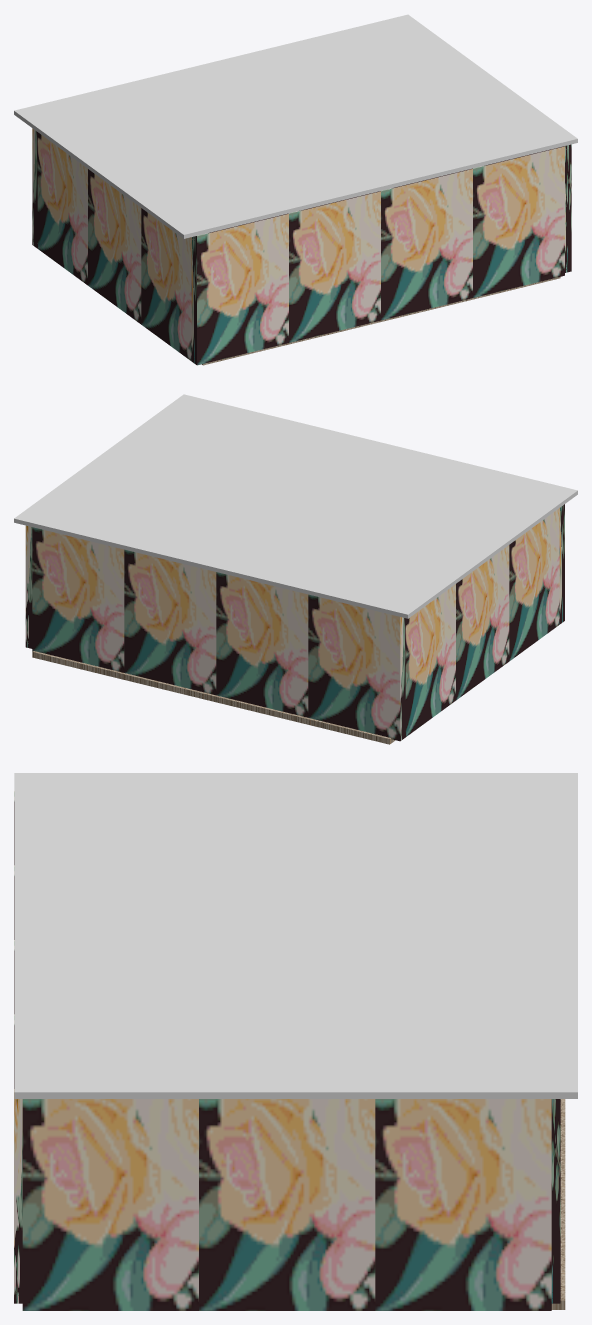
File: ps1livingroom.glb
The picture shows the model from 3 angles, top to bottom: view 1: azimuth 30°, elevation 25°; view 2: azimuth 150°, elevation 25°; view 3: azimuth 270°, elevation 25°; orthographic projection. The views are drawn at different scales.
Parts seen in each view (by area): view 1: Ceiling, Cube.011, Cube.013, Cube.012, Cube.014, Cube.009, Cube.002, Cube.001, Cube.005, Floor, Cube.006; view 2: Ceiling, Cube.006, Cube.007, Cube.010, Cube.008, Cube.009, Cube.001, Cube.002, Floor, Cube.004, Cube.011; view 3: Ceiling, Cube.003, Cube.004, Cube.005, Cube.010, Cube.014, Floor.
Part boxes in pixels (x1,y1,x2,y2): Ceiling: (14, 14, 577, 238); Cube.011: (191, 213, 288, 365); Cube.013: (381, 168, 472, 320); Cube.012: (289, 191, 380, 342); Cube.014: (473, 146, 564, 297); Cube.009: (88, 169, 141, 324); Cube.002: (141, 208, 191, 360); Cube.001: (37, 132, 87, 285); Cube.005: (565, 144, 571, 272); Floor: (202, 277, 560, 365); Cube.006: (32, 128, 38, 248); Ceiling: (14, 394, 577, 618); Cube.006: (308, 594, 406, 741); Cube.007: (216, 572, 308, 717); Cube.010: (32, 527, 124, 672); Cube.008: (124, 549, 216, 695); Cube.009: (456, 545, 509, 700); Cube.001: (405, 584, 455, 736); Cube.002: (509, 508, 559, 661); Floor: (32, 651, 395, 744); Cube.004: (25, 525, 32, 648); Cube.011: (559, 504, 564, 624); Ceiling: (14, 773, 577, 1098); Cube.003: (199, 1099, 375, 1310); Cube.004: (375, 1099, 551, 1310); Cube.005: (22, 1099, 198, 1310); Cube.010: (551, 1099, 560, 1303); Cube.014: (14, 1014, 22, 1303); Floor: (551, 1099, 565, 1309).
Bounding box in the file's own units: 8.57 × 2.87 × 6.4.
Materials: 10 (9 with a texture image).
